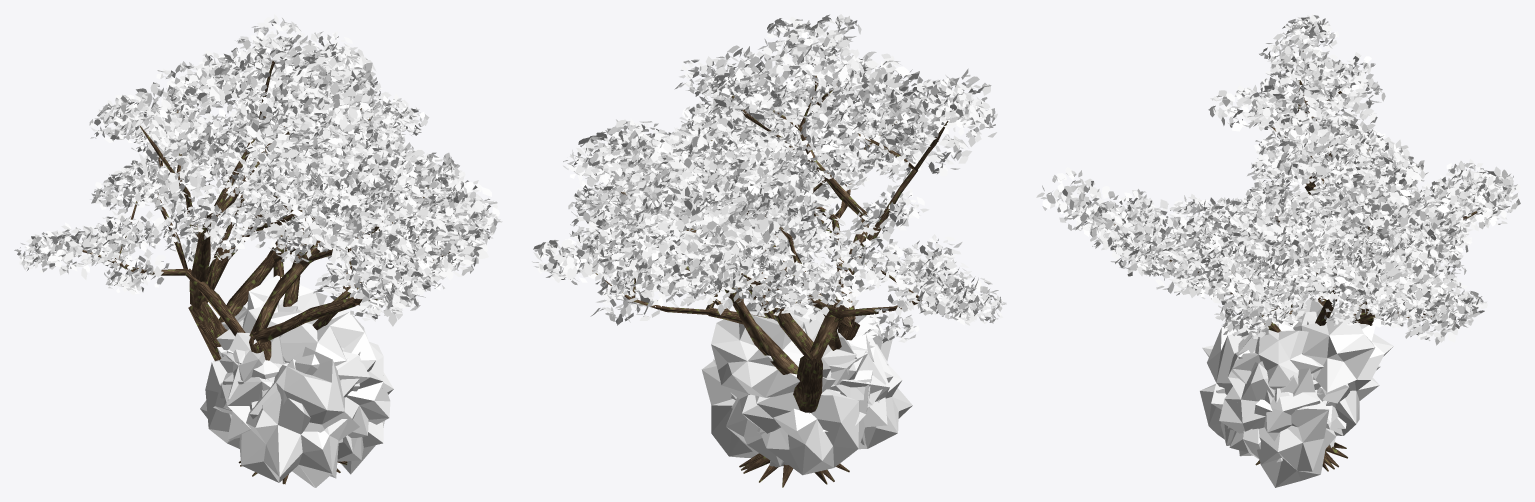
File: trees.glb
3 views of the same model, side by side, from view 1: azimuth 30°, elevation 25°; view 2: azimuth 150°, elevation 25°; view 3: azimuth 270°, elevation 25° (orthographic). The views are drawn at different scales.
Parts seen in each view (by area): view 1: Tree_B, Tree_A, ForestTree_2, ForestTree_1, Tree_C, ForestTree_0; view 2: Tree_B, Tree_A, Tree_C, ForestTree_1, ForestTree_0, ForestTree_2; view 3: Tree_B, Tree_A, Tree_C, ForestTree_2, ForestTree_0, ForestTree_1.
Part boxes in pixels (x1,y1,x2,y2): Tree_B: (89, 14, 430, 484); Tree_A: (14, 81, 502, 466); ForestTree_2: (213, 306, 384, 478); ForestTree_1: (200, 360, 383, 487); Tree_C: (189, 114, 437, 484); ForestTree_0: (216, 275, 393, 437); Tree_B: (563, 14, 997, 487); Tree_A: (568, 60, 1006, 481); Tree_C: (532, 117, 849, 482); ForestTree_1: (726, 319, 912, 475); ForestTree_0: (711, 311, 885, 408); ForestTree_2: (701, 298, 893, 457); Tree_B: (1198, 14, 1520, 469); Tree_A: (1036, 129, 1515, 467); Tree_C: (1210, 152, 1487, 471); ForestTree_2: (1207, 316, 1380, 487); ForestTree_0: (1219, 298, 1393, 441); ForestTree_1: (1200, 345, 1379, 462).
Bounding box in the file's own units: 10.23 × 11 × 11.66.
Materials: 3 (1 with a texture image).
